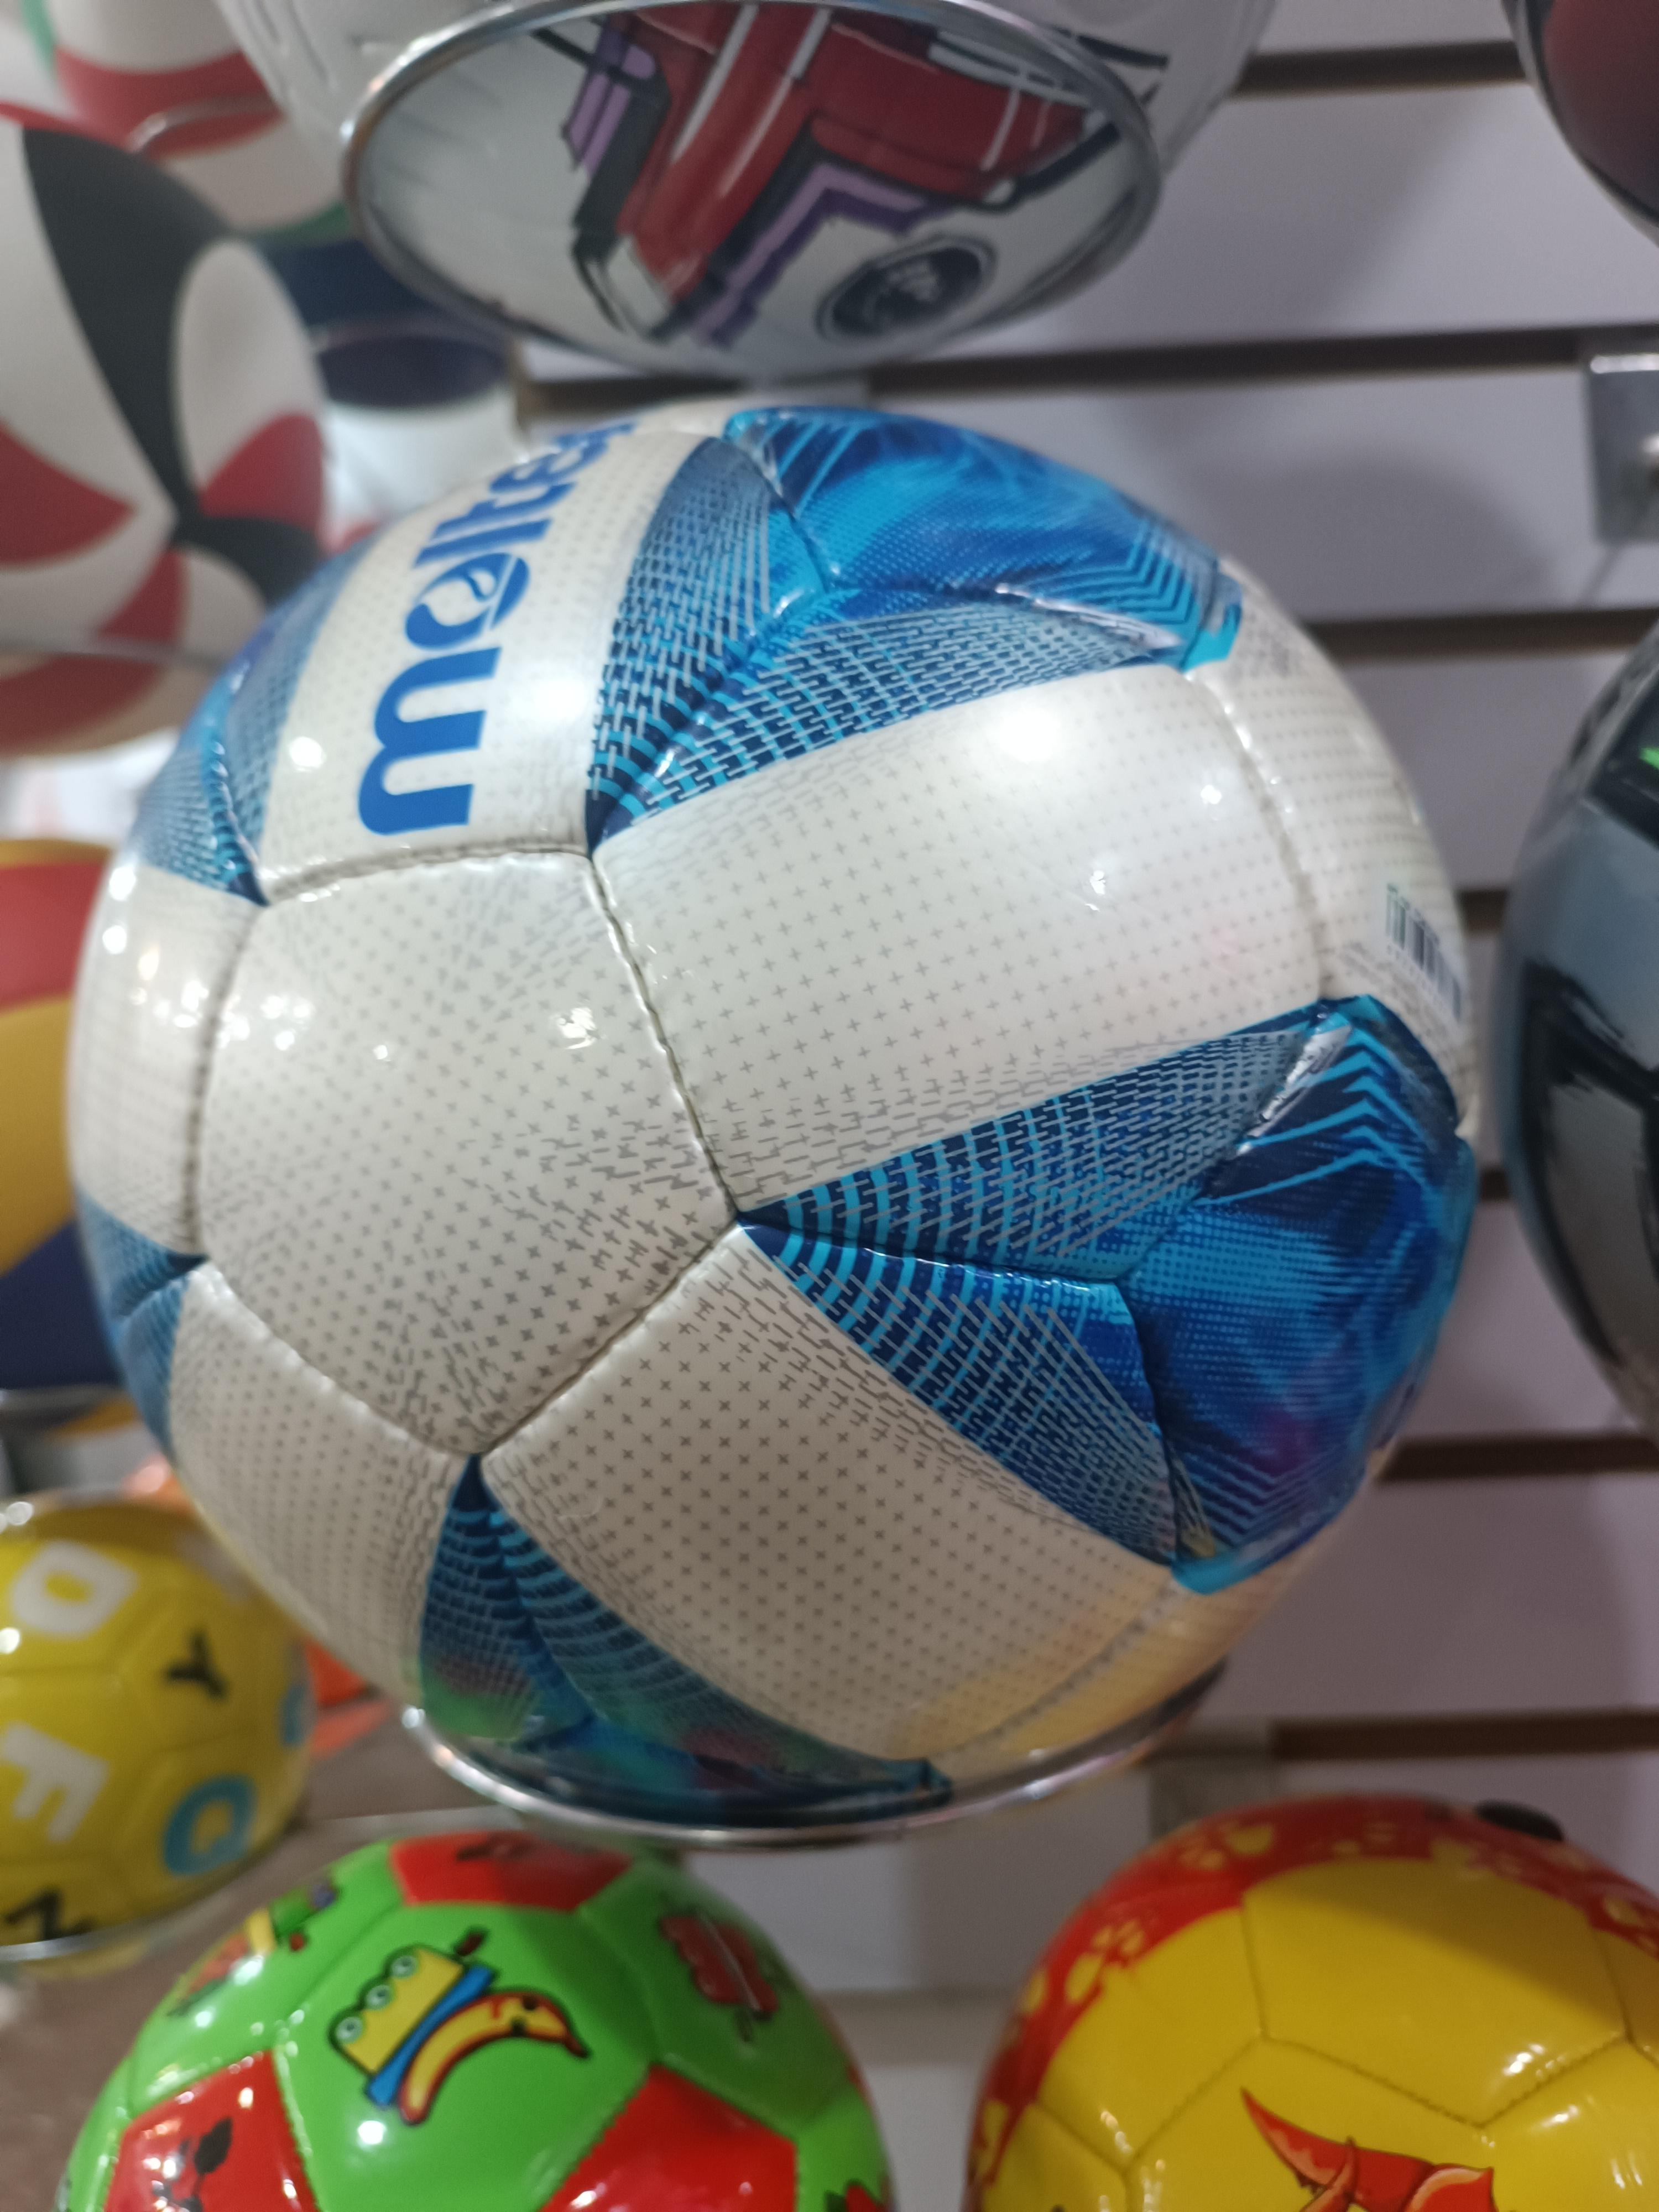Sports-Ball: (70, 406, 1478, 1841)
